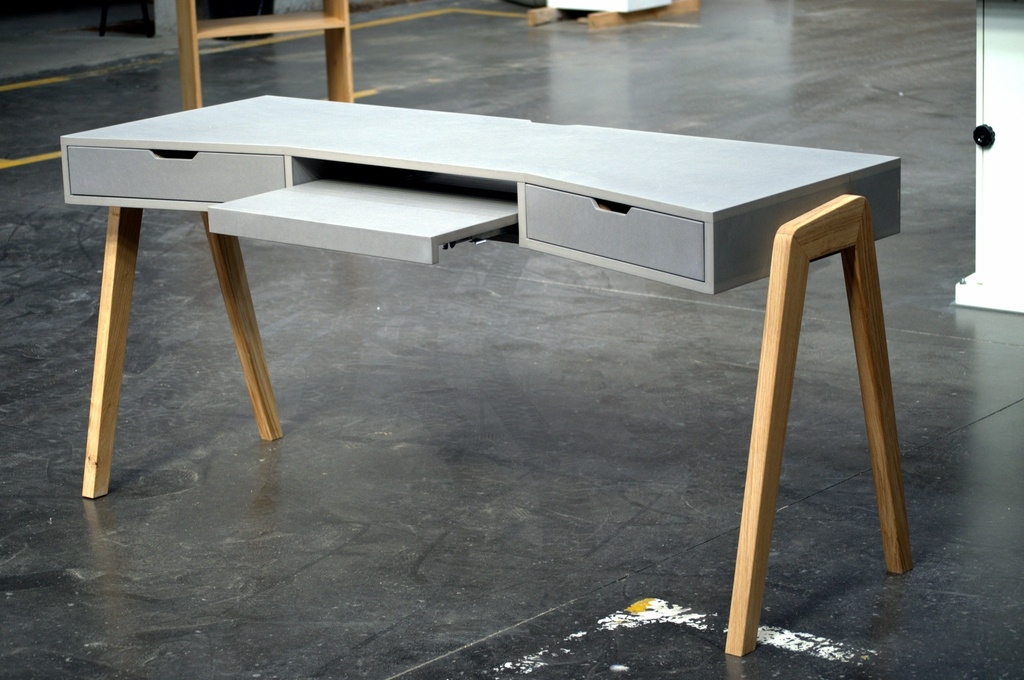Table: (487, 327, 671, 427)
